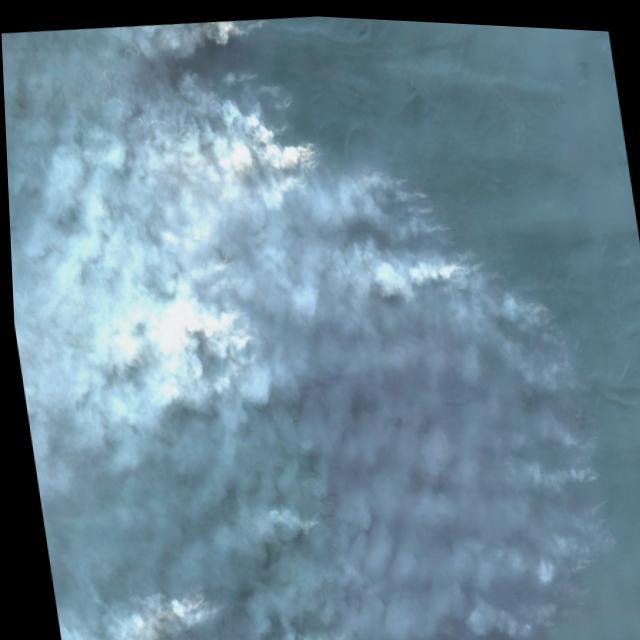fire: (255, 105, 322, 183), (436, 209, 487, 288), (276, 485, 322, 546), (169, 578, 218, 634), (209, 13, 266, 45)
